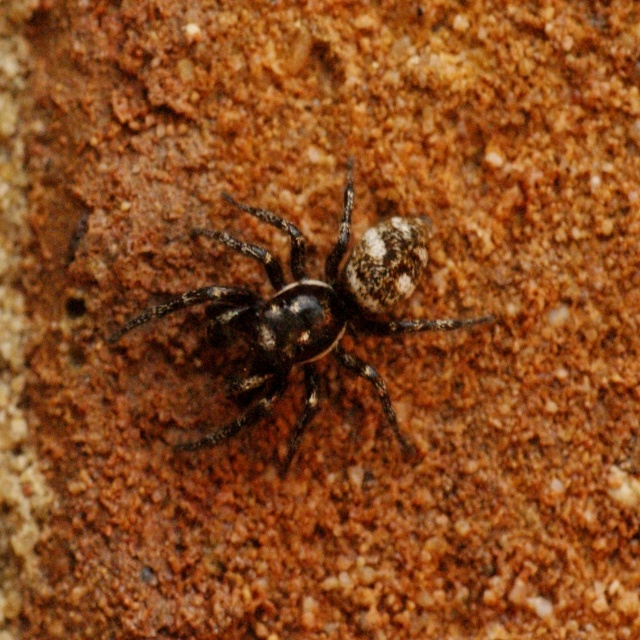Spider: (108, 158, 496, 481)
